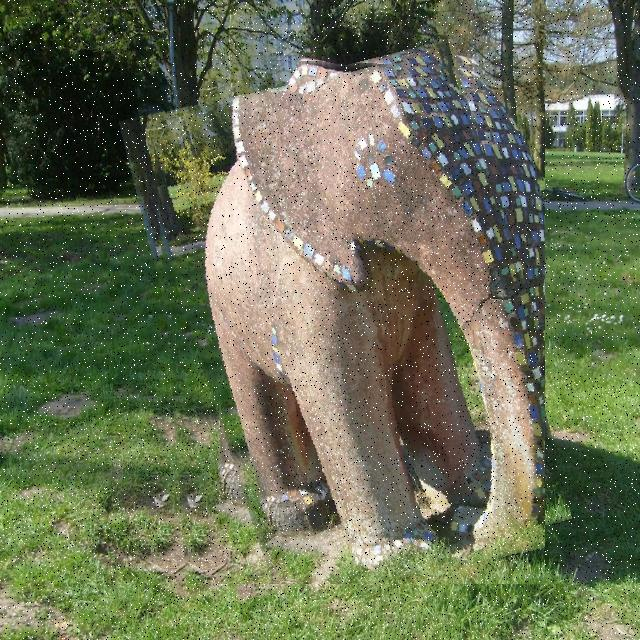elephant: (147, 55, 545, 584)
